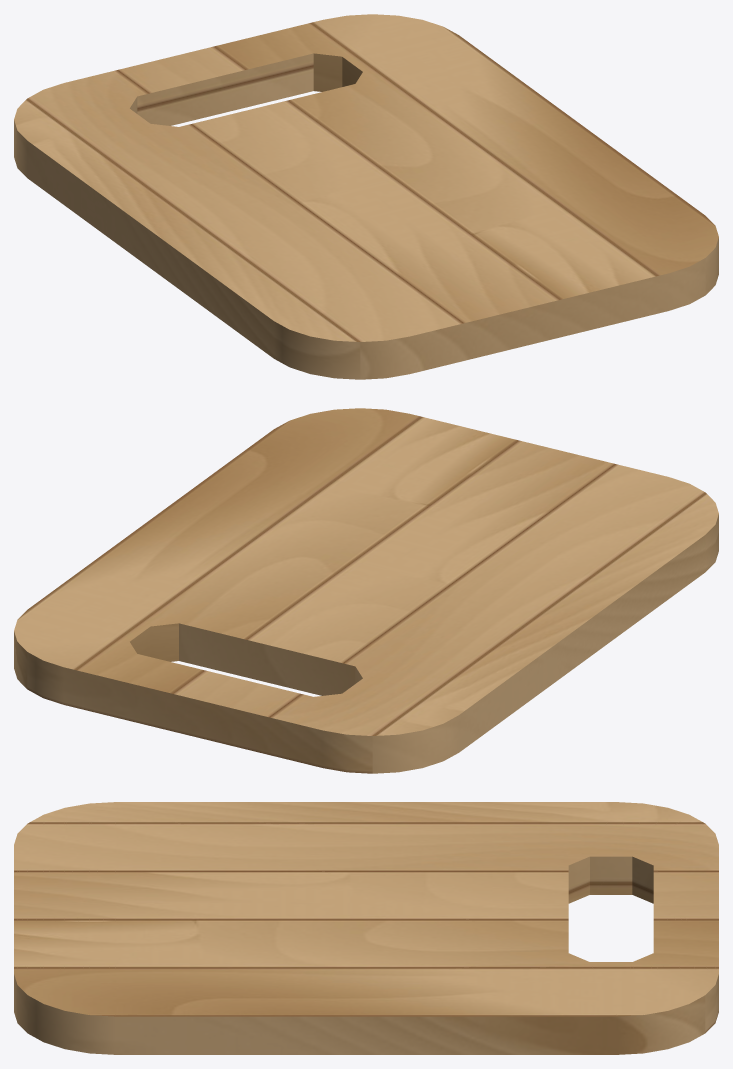
Rendered from cutting_board.glb.
The picture shows the model from 3 angles, top to bottom: view 1: azimuth 30°, elevation 25°; view 2: azimuth 150°, elevation 25°; view 3: azimuth 270°, elevation 25°; orthographic projection.
Visible parts, largest first — view 1: cuttingBoard; view 2: cuttingBoard; view 3: cuttingBoard.
Part boxes in pixels (bbox=[...]): cuttingBoard: bbox=[14, 14, 718, 379]; cuttingBoard: bbox=[14, 408, 718, 773]; cuttingBoard: bbox=[14, 802, 718, 1054].
Size of the model in its own units: 0.036 by 0.003 by 0.05.
Materials: 1 (1 with a texture image).
